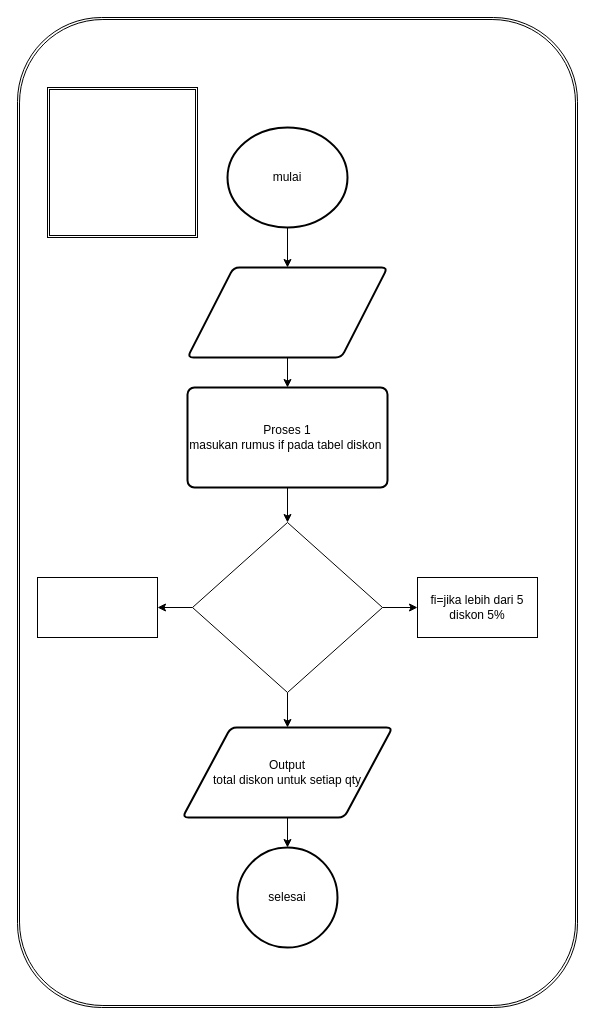
Image size: 595x1025. Some labels were removed from this diagram. Here are the shapes that lost their labels. From the top down, the centre of each, then its label:
At point (122, 162): "Flowchart latihan if Nama: Ghazawan Al FAtih Teknik Informatika NIM:202613010008".
At point (287, 312): "Input masukan Data Penjualan".
At point (287, 607): "proses 2 gunakan if pada tabel diskon".
